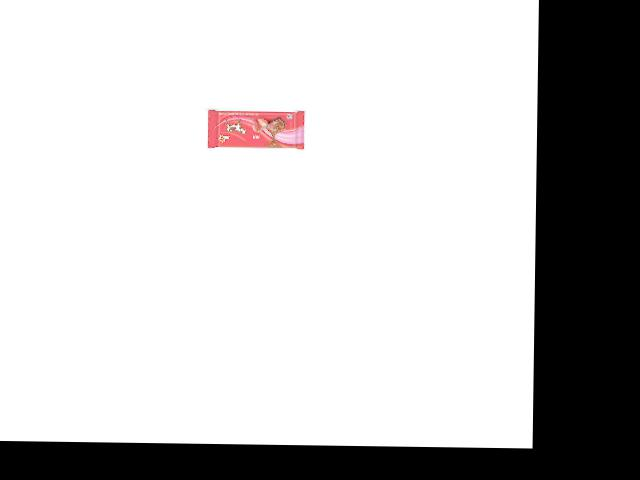chocolate: (200, 102, 305, 149)
